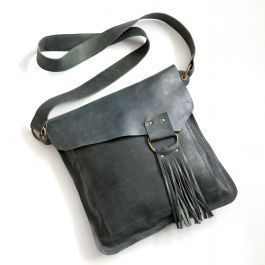cuero: (30, 12, 239, 256)
